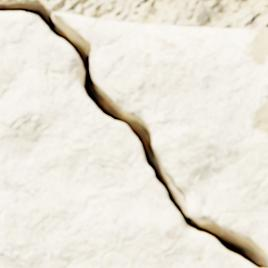broken_brick: (0, 12, 255, 267), (52, 13, 267, 263)
crack: (0, 1, 267, 267)
